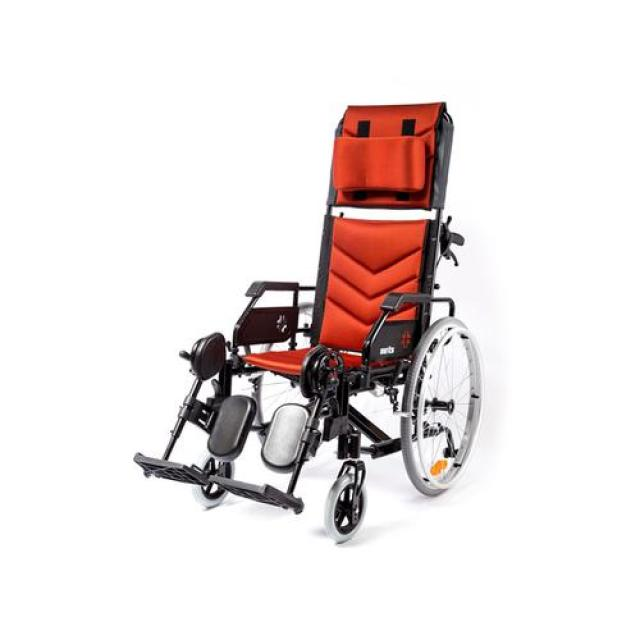wheelchairs: (97, 72, 508, 572)
